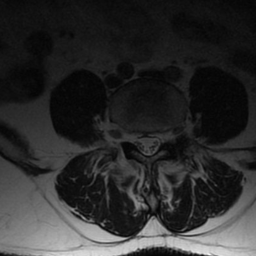CCS_normal: (142, 121, 152, 163)
LFS_normal: (162, 116, 173, 152)
LLS_normal: (152, 119, 162, 160)
RFS_normal: (121, 116, 133, 151)
RLS_normal: (133, 118, 142, 161)
